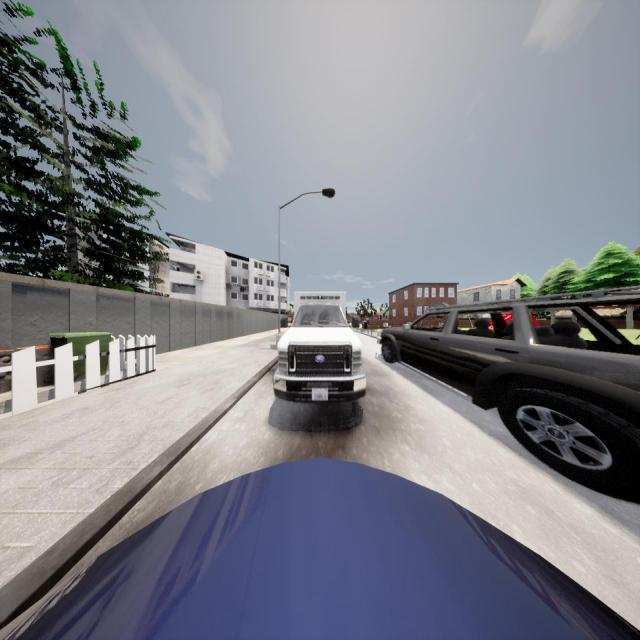Vehicle: (0, 456, 640, 640), (380, 286, 640, 501), (274, 292, 368, 400)
